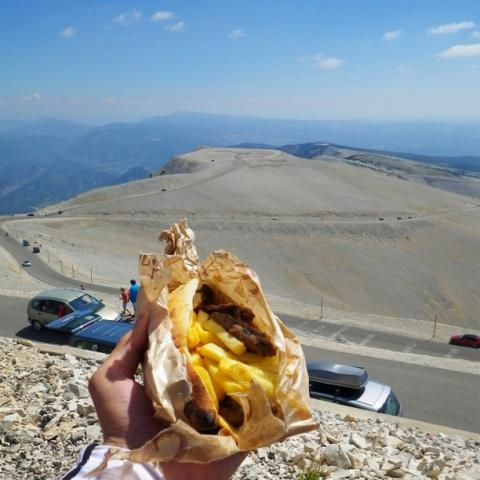car: (303, 358, 404, 418), (26, 288, 124, 331), (43, 314, 135, 354), (450, 333, 480, 349), (21, 258, 31, 266), (32, 247, 41, 253), (24, 238, 30, 246)
